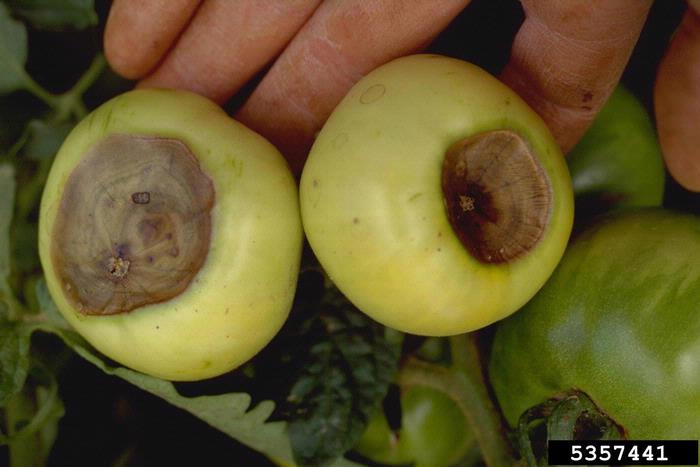blossom_rotw: (51, 120, 251, 338), (413, 115, 575, 280)
